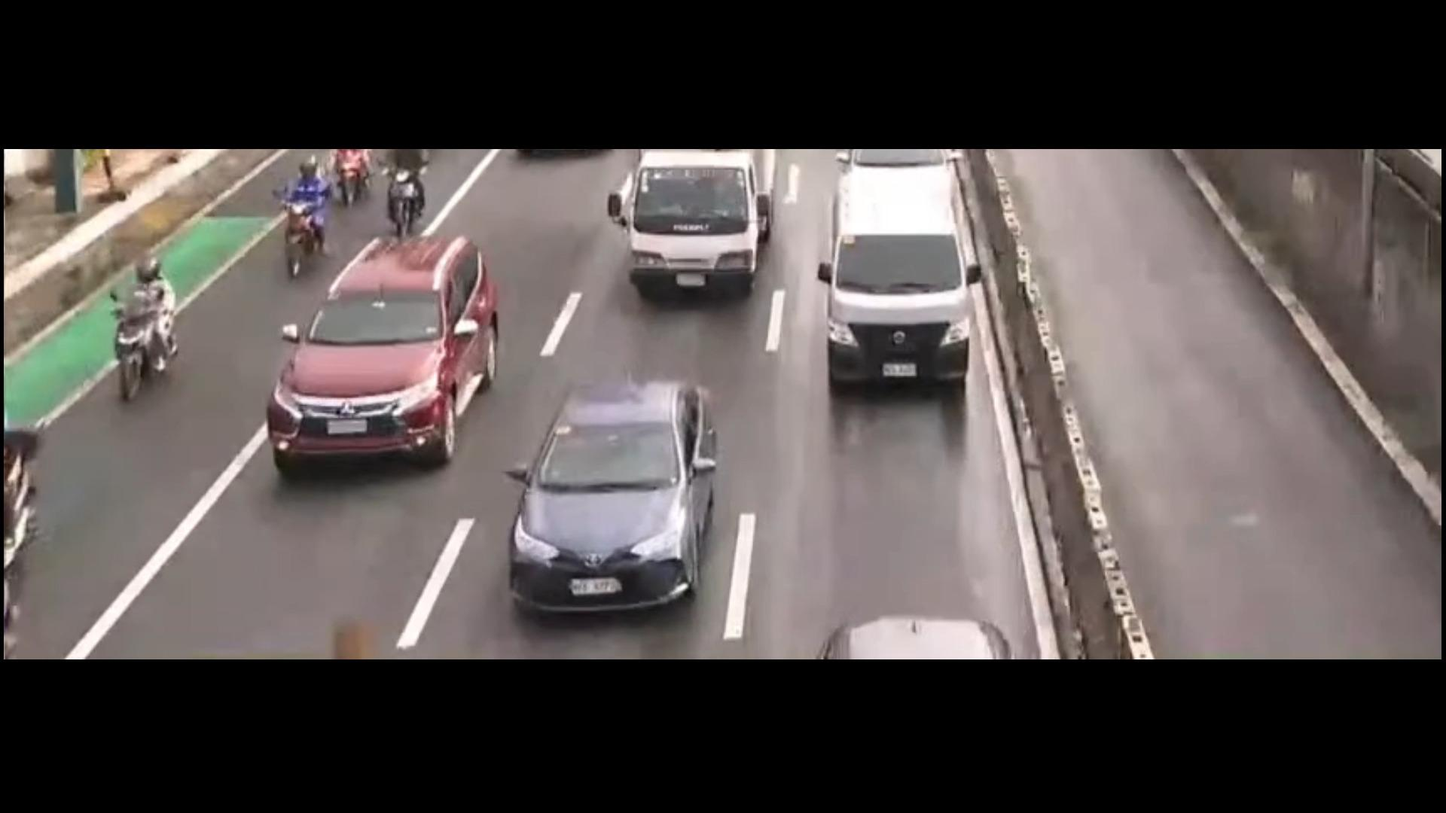Bus: (603, 142, 789, 322)
Motorcycle: (94, 232, 203, 408), (268, 160, 345, 270), (376, 157, 437, 240), (334, 140, 359, 200)
SUV: (251, 222, 501, 487)
Sedan: (475, 347, 737, 627)
Van: (805, 155, 985, 405)
